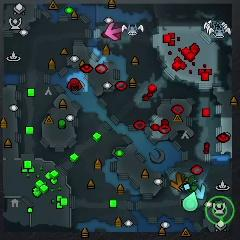p2: (183, 191, 198, 211)
x1: (106, 23, 123, 41)
x3: (195, 184, 206, 201)
x4: (182, 173, 198, 191)
x5: (169, 172, 188, 192)
